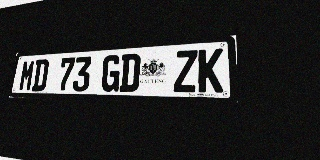3: (72, 56, 92, 92)
7: (56, 57, 76, 91)
D: (119, 53, 141, 92), (31, 59, 50, 91)
G: (100, 54, 121, 92)
K: (198, 48, 223, 92)
M: (18, 60, 36, 91)
Z: (173, 50, 198, 92)
